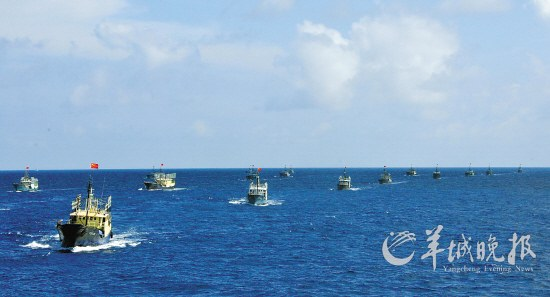otherboat: (60, 184, 114, 253), (141, 166, 177, 192), (245, 174, 273, 206), (9, 168, 40, 193), (336, 167, 354, 192), (375, 168, 394, 185), (239, 165, 260, 180), (463, 165, 477, 179), (279, 167, 294, 180), (403, 166, 420, 177), (431, 167, 443, 181), (484, 166, 496, 176)
